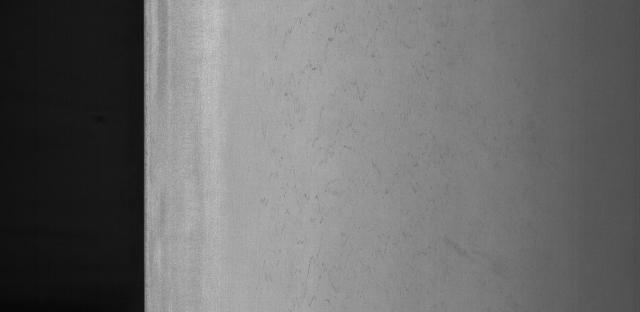silk_spot: (265, 26, 432, 286)
